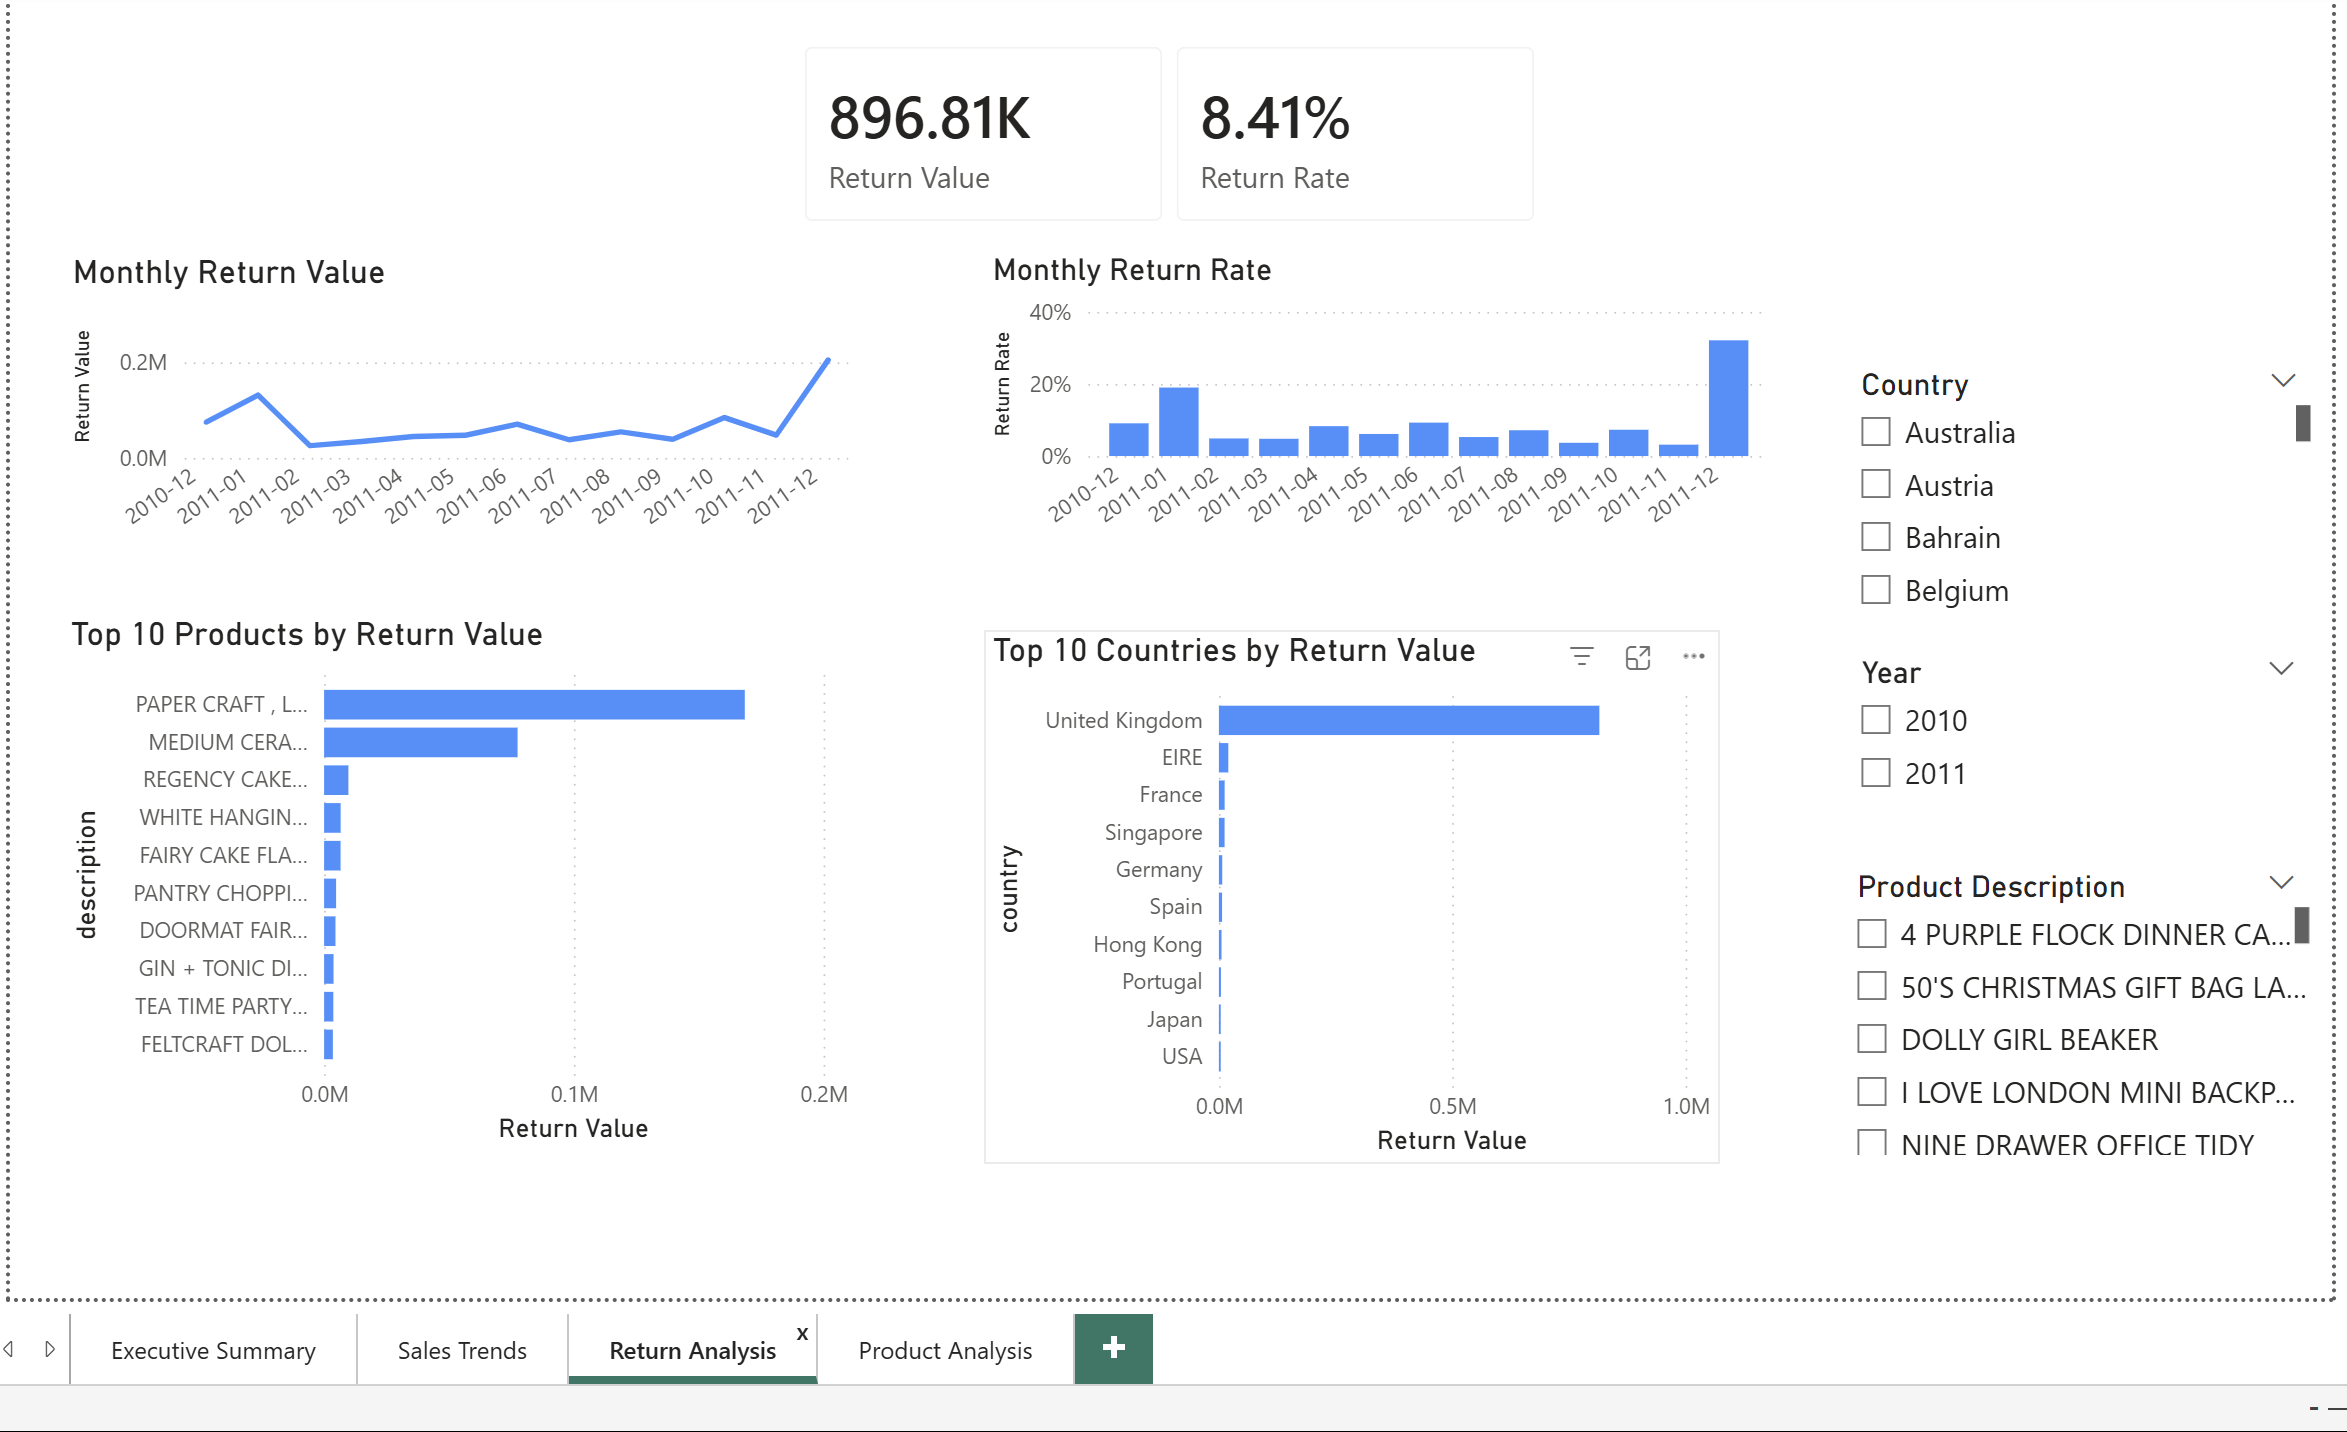

What the dashboard file says about the page in this screenshot:
{"tool":"powerbi","page":{"name":"Return Analysis","canvas":[1280,720],"ordinal":2},"visuals":[{"type":"lineChart","title":"Monthly Return Value","fields":{"Category":["public dim_date.year_month"],"Y":["public v_fact_transactions_model_v2.Return Value"]},"box":[29.8,143.3,437.7,166.5],"z":0},{"type":"cardVisual","fields":{"Data":["public v_fact_transactions_model_v2.Return Value","public v_fact_transactions_model_v2.Return Rate"]},"box":[421.2,13.2,437.7,130.1],"z":1000},{"type":"clusteredColumnChart","title":"Monthly Return Rate","fields":{"Category":["public dim_date.year_month"],"Y":["public v_fact_transactions_model_v2.Return Rate"]},"box":[537,143.3,437.7,166.5],"z":2000},{"type":"clusteredBarChart","title":"Top 10 Products by Return Value","fields":{"Category":["public dim_product_v2.description"],"Y":["public v_fact_transactions_model_v2.Return Value"]},"box":[28.7,342.9,438.8,296.6],"z":3000},{"type":"clusteredBarChart","title":"Top 10 Countries by Return Value","fields":{"Category":["public dim_country.country"],"Y":["public v_fact_transactions_model_v2.Return Value"]},"box":[537,351.7,405.8,294.4],"z":4000},{"type":"slicer","fields":{"Values":["public dim_date.year"]},"box":[1007.8,360.6,264.6,92.6],"z":5000},{"type":"slicer","fields":{"Values":["public dim_country.country"]},"box":[1007.8,201.8,265.7,150],"z":6000},{"type":"slicer","fields":{"Values":["public dim_product_v2.description"]},"box":[1005.6,478.5,266.8,167.6],"z":7000}]}

Visuals, with their boxes on the page's 1280x720 design canvas (x1, y1, x2, y2). These are canvas units, not pixel positions in the 2347x1432 screenshot, which may show the page scaled, cropped or inside an application window:
"Monthly Return Value" lineChart: crop(30, 143, 468, 310)
cardVisual - public v_fact_transactions_model_v2.Return Value x public v_fact_transactions_model_v2.Return Rate: crop(421, 13, 859, 143)
"Monthly Return Rate" clusteredColumnChart: crop(537, 143, 975, 310)
"Top 10 Products by Return Value" clusteredBarChart: crop(29, 343, 468, 640)
"Top 10 Countries by Return Value" clusteredBarChart: crop(537, 352, 943, 646)
slicer - public dim_date.year: crop(1008, 361, 1272, 453)
slicer - public dim_country.country: crop(1008, 202, 1274, 352)
slicer - public dim_product_v2.description: crop(1006, 478, 1272, 646)
